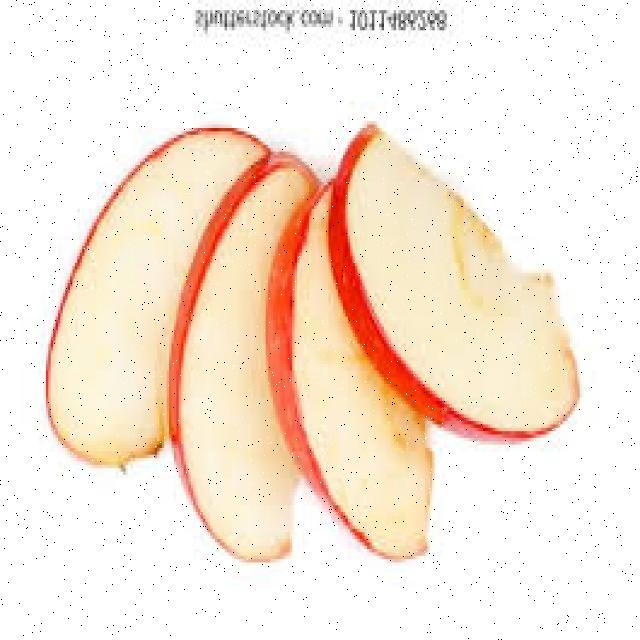Apple: (332, 129, 576, 444), (44, 129, 257, 465), (268, 178, 433, 562), (169, 144, 301, 561)
